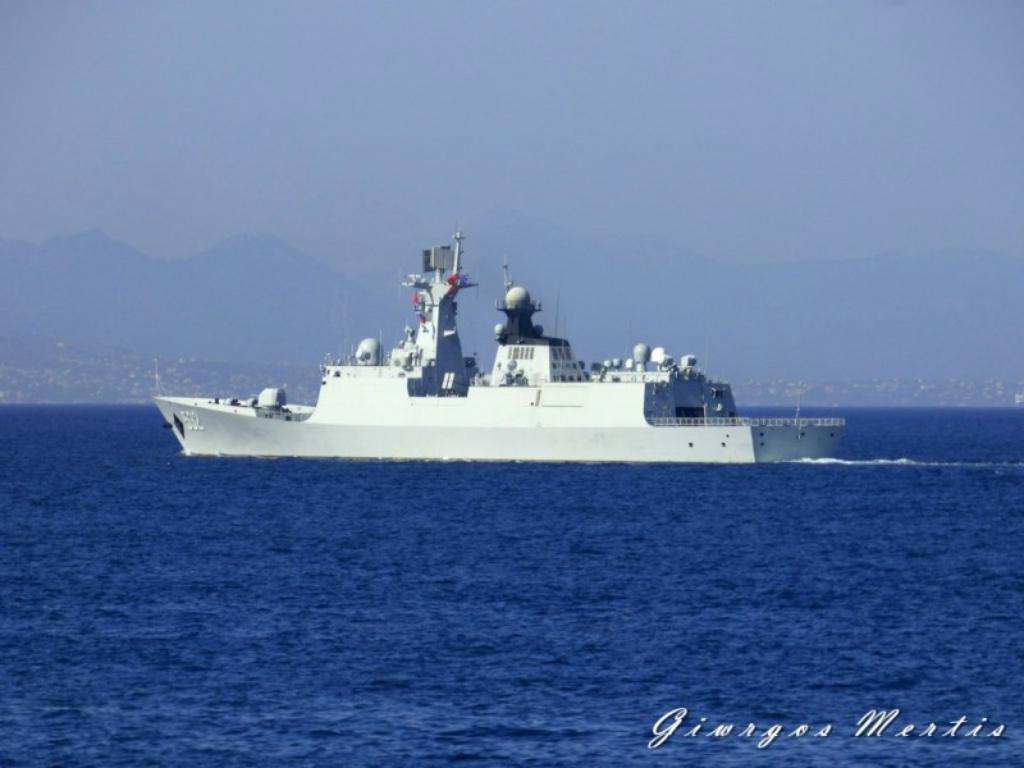Warship: (152, 228, 850, 466)
